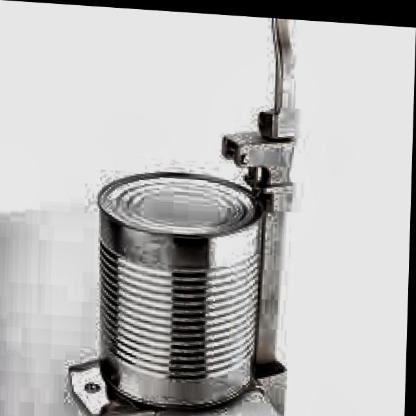Can: (88, 162, 270, 412)
